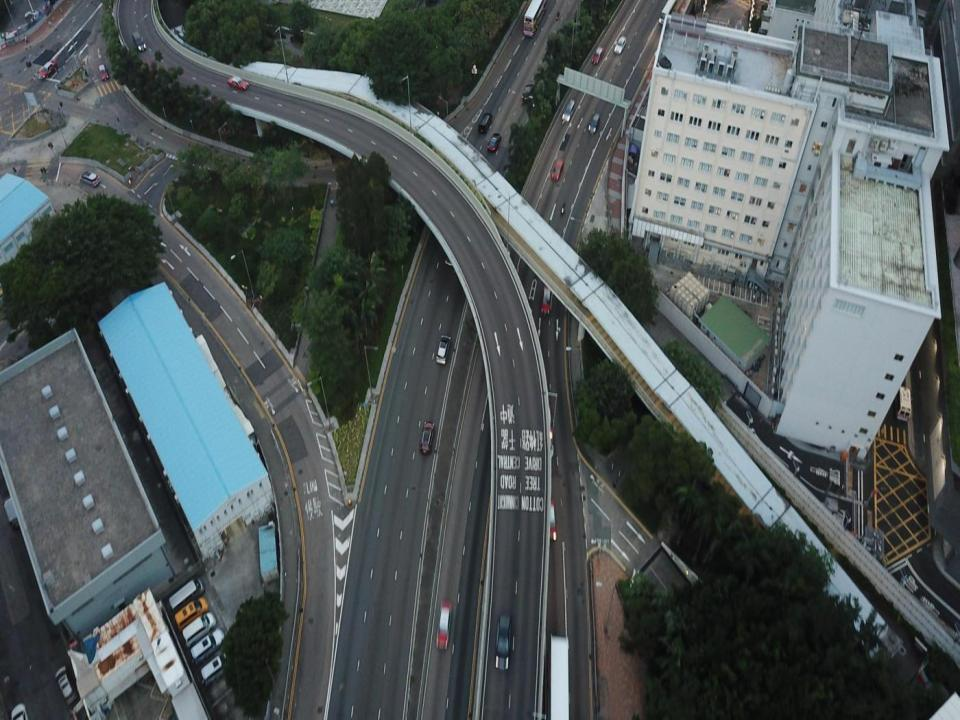bus: (524, 0, 550, 37), (661, 0, 683, 27)
car: (55, 665, 77, 704), (436, 599, 451, 650), (442, 231, 456, 272), (420, 419, 436, 454), (543, 500, 556, 541), (540, 283, 552, 316), (38, 61, 58, 80), (438, 334, 449, 368), (226, 75, 250, 90), (562, 99, 575, 123), (587, 112, 601, 134), (78, 171, 100, 185), (522, 80, 535, 103), (9, 703, 27, 719), (550, 157, 562, 179), (487, 133, 500, 152), (98, 62, 109, 84), (614, 36, 626, 55), (593, 46, 603, 64)
van: (169, 577, 205, 615), (495, 614, 516, 670), (181, 612, 216, 645), (190, 629, 228, 658), (173, 598, 208, 628), (198, 652, 229, 682), (897, 383, 913, 423), (478, 112, 493, 134), (132, 30, 148, 49)
